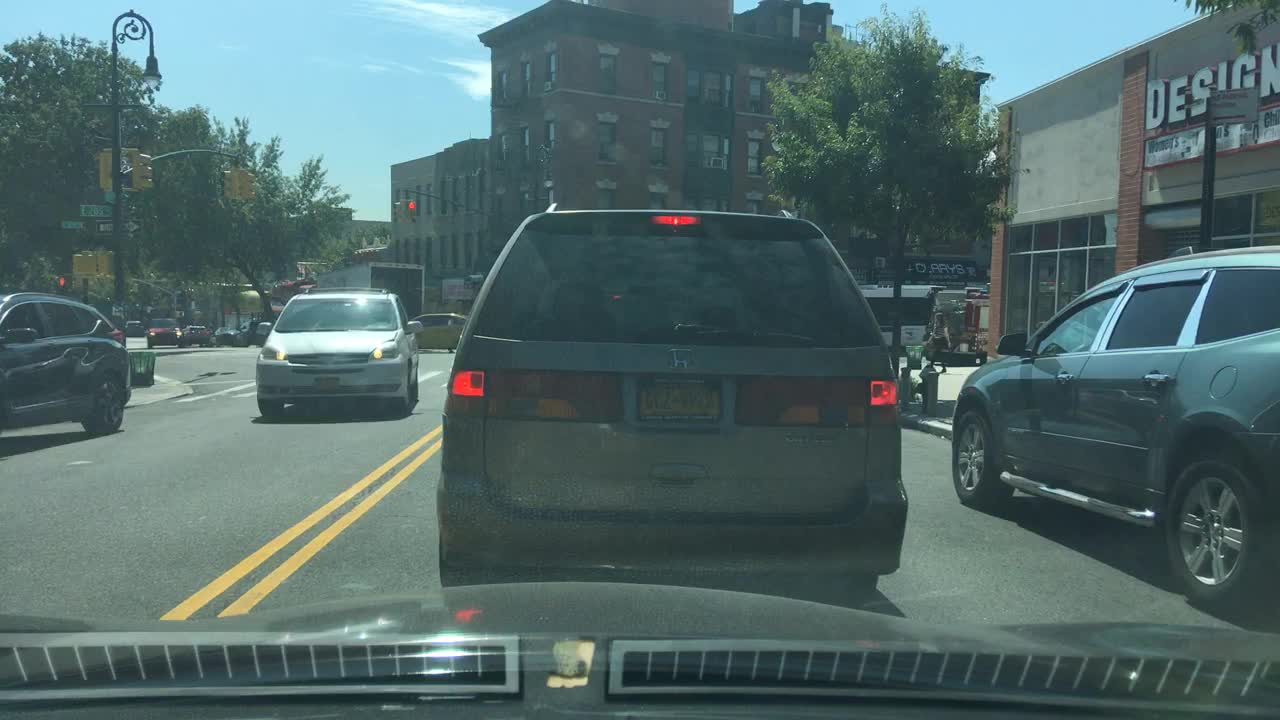bus: (858, 282, 944, 349)
car: (447, 206, 908, 616), (948, 241, 1278, 612), (254, 284, 419, 415), (1, 291, 132, 435), (3, 290, 133, 433), (406, 310, 468, 349), (241, 317, 274, 350), (145, 316, 180, 346), (181, 322, 211, 348), (215, 324, 247, 348), (123, 318, 145, 337)
person: (919, 311, 951, 374), (255, 315, 271, 342)
traffic light: (95, 147, 137, 194), (72, 249, 94, 277), (94, 251, 116, 278), (137, 151, 152, 190), (240, 167, 255, 197), (219, 169, 232, 200), (53, 275, 72, 291), (392, 199, 403, 223), (405, 198, 414, 224)
traffic sign: (94, 218, 144, 235), (78, 203, 116, 218), (61, 220, 92, 230)
truck: (315, 259, 426, 319)
